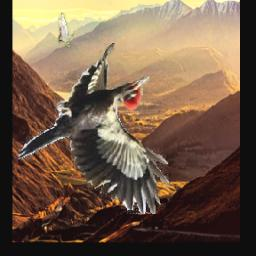Sparrow: (58, 13, 74, 48)
Woodpecker: (16, 44, 169, 215)
